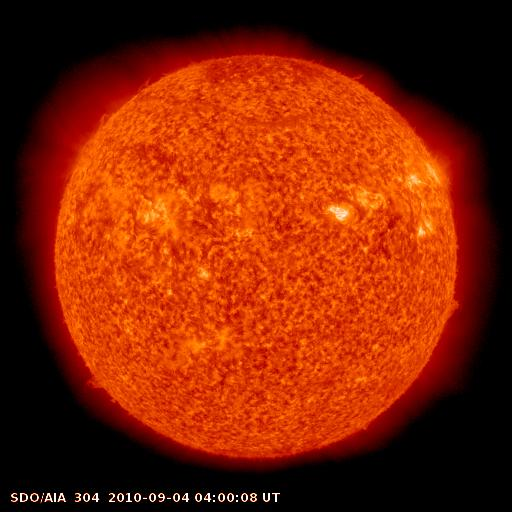prominence: (77, 365, 110, 404)
